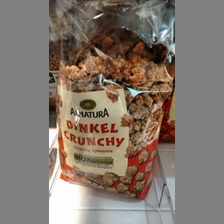cereal: (59, 42, 170, 199)
